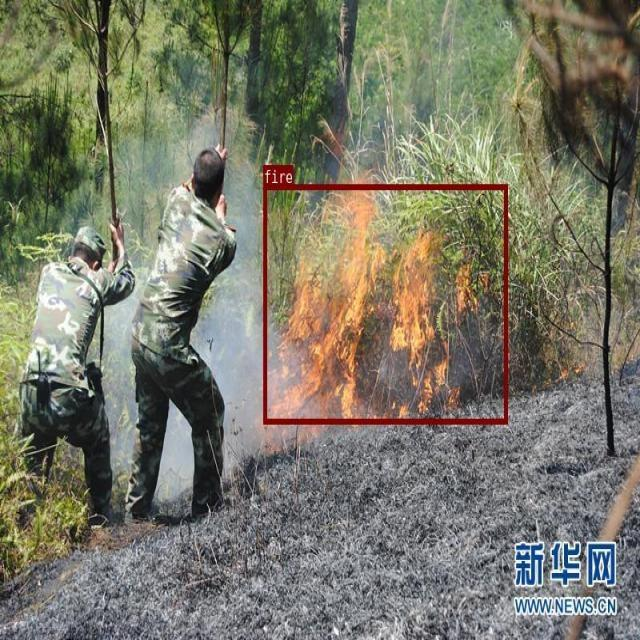fire: (263, 184, 506, 423)
